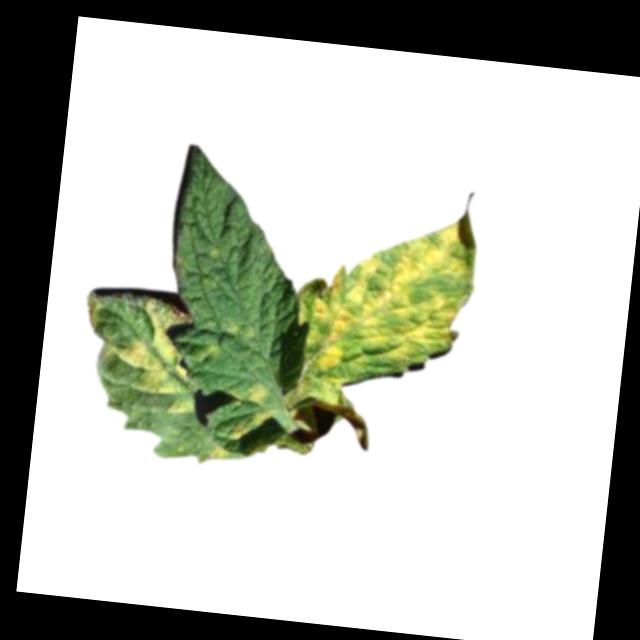Leaf_Mold: (291, 194, 483, 418), (113, 298, 207, 418), (224, 382, 272, 407), (249, 405, 277, 425), (205, 440, 230, 462), (225, 419, 248, 439)
